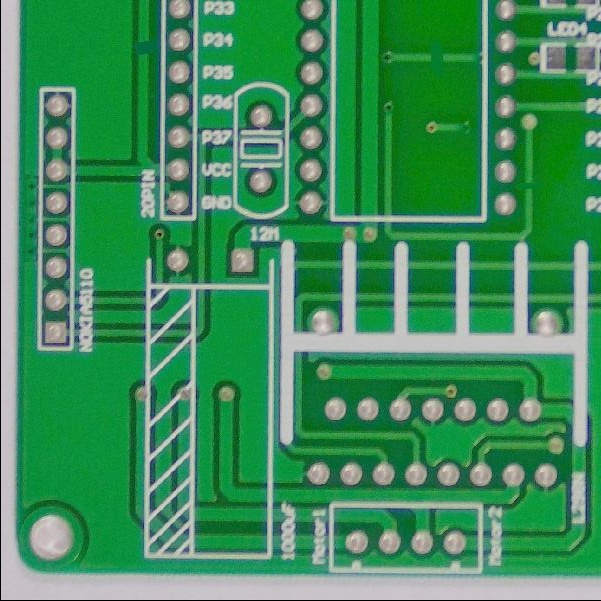open_circuit: (133, 36, 154, 60), (424, 50, 448, 69), (519, 177, 537, 197)
